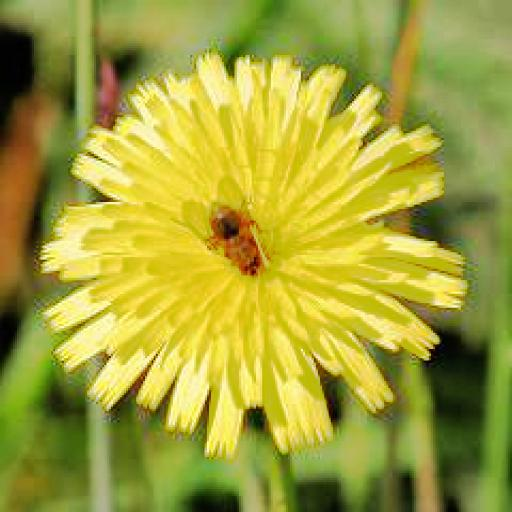dandelion: (41, 53, 467, 448)
